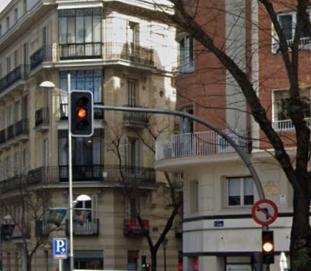yellow_light: (69, 90, 94, 137), (262, 230, 274, 264)
